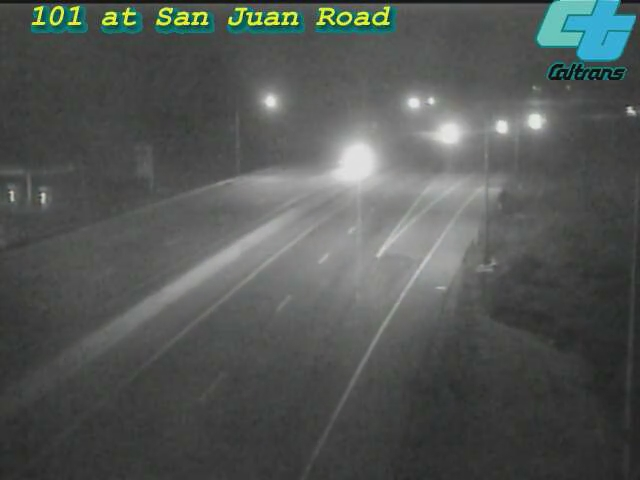vehicle: (330, 135, 380, 185), (422, 109, 472, 159), (478, 103, 528, 153), (510, 96, 560, 146), (605, 87, 640, 137)
